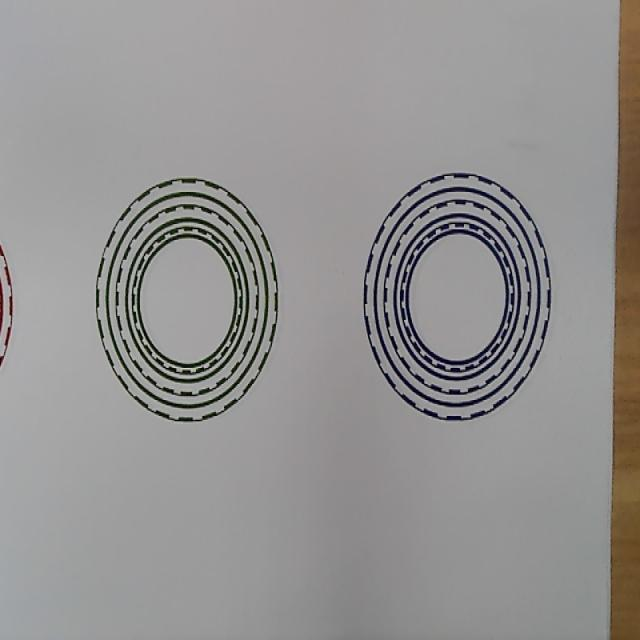b: (362, 171, 550, 421)
g: (95, 177, 279, 423)
